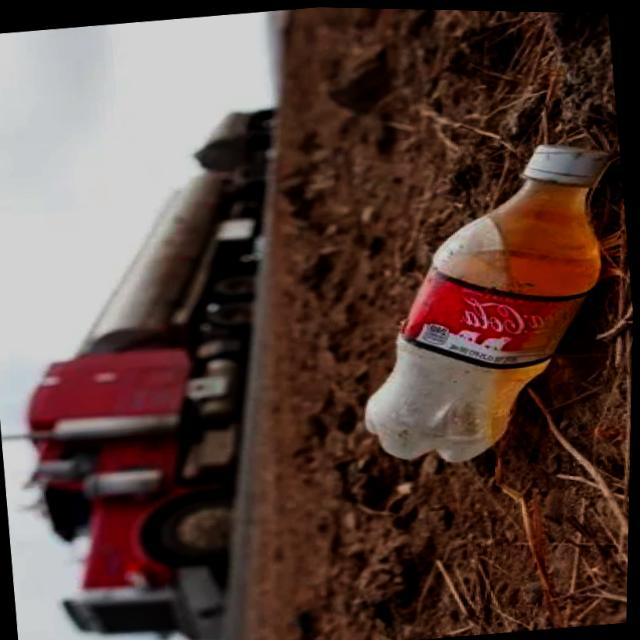Plastic: (323, 113, 638, 475)
